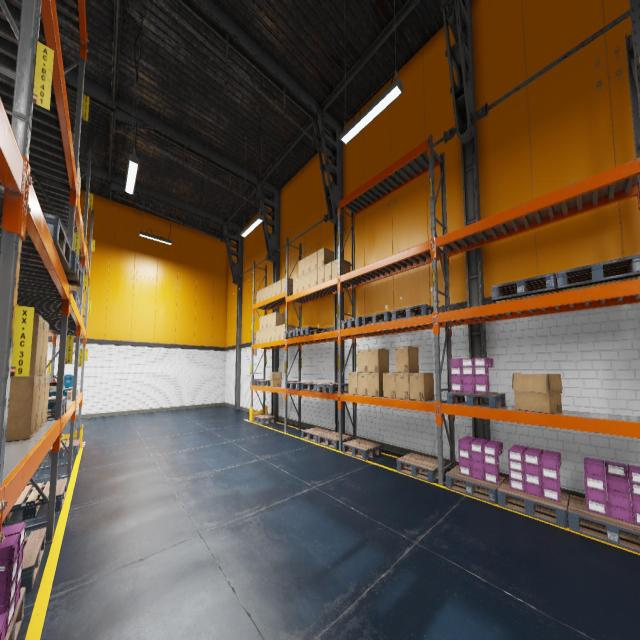box: (6, 375, 40, 442), (512, 373, 563, 413), (30, 314, 44, 375), (409, 372, 434, 400), (395, 346, 419, 372), (36, 375, 46, 433), (367, 349, 389, 372), (368, 372, 388, 397), (41, 320, 49, 375), (42, 374, 50, 426), (396, 373, 410, 399), (332, 258, 350, 278), (383, 372, 396, 398), (318, 247, 334, 268), (280, 324, 295, 340), (348, 372, 358, 395), (358, 373, 368, 395), (272, 312, 286, 327), (358, 350, 367, 372), (281, 277, 293, 293), (269, 372, 282, 386), (324, 262, 332, 282), (317, 266, 324, 284), (311, 251, 317, 271), (311, 268, 317, 287), (304, 255, 310, 274), (304, 272, 310, 289), (298, 275, 304, 292), (299, 258, 304, 277), (65, 386, 73, 397), (293, 277, 298, 294), (276, 280, 281, 294), (71, 286, 79, 294), (276, 325, 280, 340), (271, 326, 275, 341), (78, 162, 80, 190), (78, 172, 80, 200), (267, 328, 271, 342), (267, 314, 271, 328), (263, 315, 267, 329), (259, 316, 263, 330), (272, 282, 276, 296), (268, 284, 272, 298), (264, 286, 268, 300), (260, 288, 264, 302), (263, 329, 267, 342), (259, 330, 263, 343), (67, 391, 72, 399), (256, 331, 259, 344), (257, 290, 260, 303), (71, 132, 74, 142), (82, 290, 83, 309), (81, 215, 83, 224), (76, 389, 78, 396), (81, 310, 82, 316), (78, 160, 78, 175), (83, 224, 83, 229), (82, 310, 82, 320)
pallets: (568, 495, 640, 553), (498, 478, 570, 528), (556, 254, 640, 292), (2, 478, 67, 525), (446, 465, 506, 504), (491, 272, 559, 302), (42, 212, 72, 270), (21, 528, 46, 593), (397, 453, 446, 483), (5, 587, 26, 639), (447, 392, 505, 408), (342, 438, 381, 460), (43, 438, 80, 460), (392, 304, 433, 320), (64, 250, 82, 286), (318, 432, 352, 449), (302, 427, 332, 443), (47, 396, 67, 418), (362, 312, 392, 325), (341, 316, 368, 329), (317, 383, 348, 393), (301, 382, 332, 391), (296, 327, 326, 336), (285, 381, 313, 390), (253, 414, 276, 424), (71, 290, 79, 310), (284, 329, 298, 338), (253, 380, 270, 386), (79, 300, 81, 315)
